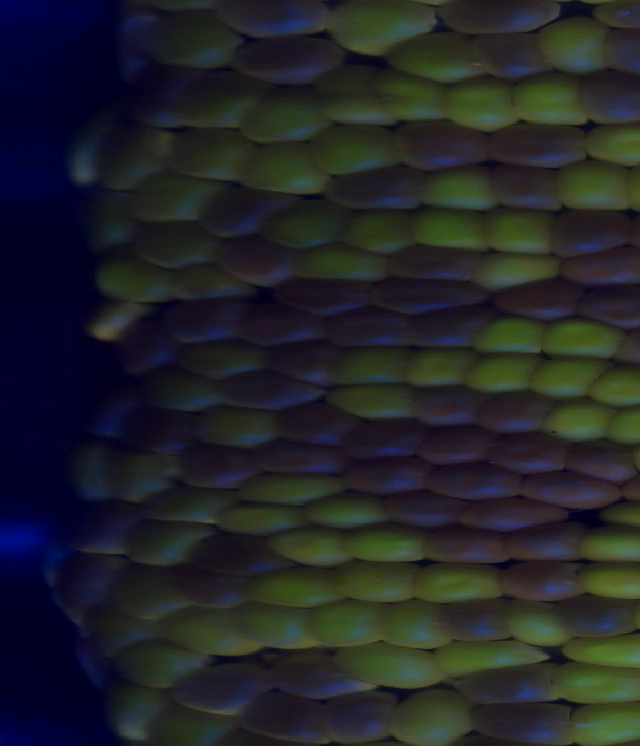fluorescent: (328, 2, 438, 53), (338, 642, 447, 691), (149, 8, 240, 66), (393, 689, 478, 746), (238, 89, 329, 142), (93, 127, 171, 188), (172, 128, 255, 185), (388, 34, 486, 82), (442, 75, 522, 133), (170, 606, 262, 655), (118, 637, 205, 688), (243, 145, 328, 197), (509, 72, 589, 127), (128, 173, 216, 223), (317, 69, 395, 125), (308, 127, 400, 174), (111, 567, 188, 623), (180, 74, 257, 128), (539, 16, 613, 72), (294, 241, 392, 283), (262, 202, 345, 251), (243, 603, 323, 652), (553, 662, 640, 707), (195, 403, 278, 450), (372, 67, 445, 120), (307, 600, 389, 647), (127, 520, 207, 568), (173, 341, 263, 383), (110, 682, 173, 742), (555, 160, 628, 211), (103, 447, 168, 504), (269, 526, 353, 570), (246, 571, 348, 607), (347, 522, 428, 567), (415, 564, 503, 605), (528, 357, 608, 402), (139, 368, 220, 412), (433, 642, 547, 672), (413, 168, 494, 210), (542, 321, 621, 364), (485, 208, 557, 255), (340, 211, 414, 256), (503, 600, 573, 647), (94, 257, 166, 302), (410, 208, 487, 250), (336, 564, 413, 606), (216, 502, 305, 538), (475, 254, 559, 292), (136, 227, 213, 268), (463, 352, 538, 394), (543, 395, 608, 443), (153, 707, 233, 746), (377, 602, 442, 650), (146, 487, 228, 525), (242, 473, 345, 503), (330, 349, 407, 389), (308, 490, 390, 527), (322, 391, 417, 422), (575, 524, 640, 568), (87, 609, 154, 651), (70, 444, 114, 507), (475, 317, 545, 356), (567, 707, 640, 743), (405, 350, 473, 388), (562, 637, 640, 668), (173, 266, 244, 299), (93, 190, 133, 247), (588, 122, 640, 163), (581, 564, 640, 600), (592, 366, 640, 406), (608, 403, 640, 445), (605, 499, 640, 534)
nonfluorescent: (230, 37, 343, 82), (219, 371, 326, 414), (243, 689, 323, 746), (490, 122, 591, 167), (173, 666, 268, 713), (270, 654, 373, 697), (215, 1, 330, 39), (193, 532, 288, 578), (322, 167, 421, 211), (398, 122, 488, 170), (48, 553, 126, 608), (237, 297, 328, 344), (203, 187, 292, 234), (272, 397, 352, 448), (557, 591, 640, 640), (178, 440, 253, 493), (367, 277, 487, 310), (437, 1, 564, 32), (472, 704, 572, 743), (215, 242, 297, 289), (468, 492, 562, 533), (454, 669, 557, 706), (489, 429, 568, 477), (545, 212, 633, 255), (517, 472, 625, 507), (498, 562, 586, 604), (412, 384, 484, 435), (423, 525, 508, 568), (477, 31, 551, 80), (135, 67, 193, 129), (491, 281, 582, 320), (580, 67, 640, 126), (337, 458, 430, 496), (119, 312, 175, 375), (403, 310, 488, 351), (250, 439, 343, 475), (555, 251, 640, 290), (476, 391, 548, 437), (385, 247, 479, 282), (168, 302, 241, 347), (430, 465, 520, 501), (171, 562, 243, 607), (387, 489, 464, 531), (351, 417, 424, 461), (328, 309, 412, 347), (123, 407, 192, 453), (508, 521, 583, 563), (323, 694, 396, 737), (267, 339, 336, 384), (273, 282, 368, 314), (568, 442, 640, 484), (446, 602, 516, 645), (78, 508, 142, 555), (493, 167, 561, 211), (424, 427, 496, 468), (580, 282, 640, 331), (97, 392, 139, 441), (606, 31, 640, 77), (593, 1, 640, 28)
